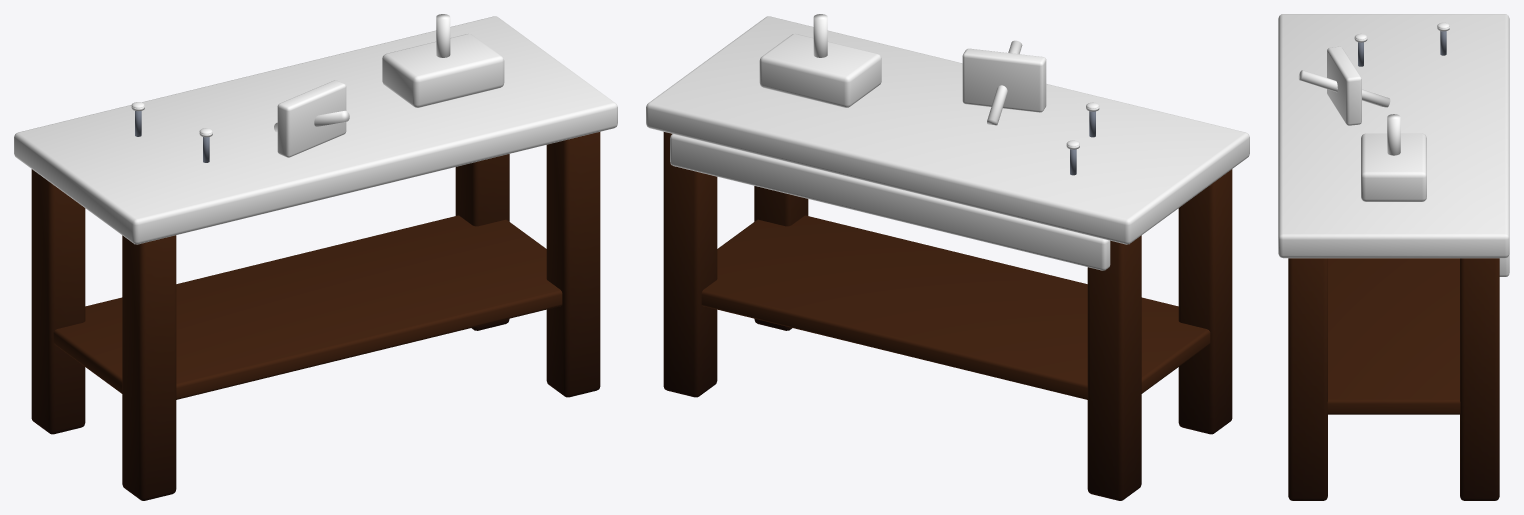
The model's file is workbench.obj.
The picture shows the model from 3 angles, left to right: view 1: azimuth 30°, elevation 25°; view 2: azimuth 150°, elevation 25°; view 3: azimuth 270°, elevation 25°; orthographic projection. The views are drawn at different scales.
Visible parts, largest first — view 1: workbench; view 2: workbench; view 3: workbench.
Part boxes in pixels (left/top/right/bottom): workbench: left=14, top=14, right=617, bottom=500; workbench: left=646, top=14, right=1249, bottom=500; workbench: left=1278, top=14, right=1509, bottom=500.
Size of the model in its own units: 1.6 by 1.13 by 0.7.
